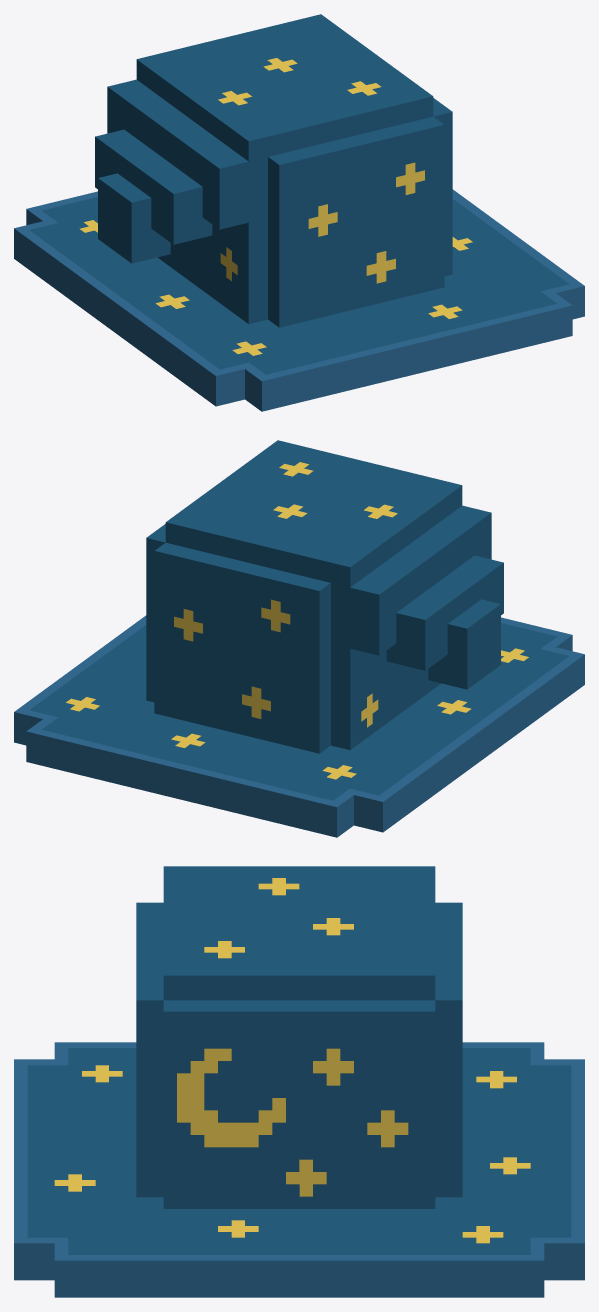
The model's file is av_hat_wizard.glb.
3 renders of one model, top to bottom at view 1: azimuth 30°, elevation 25°; view 2: azimuth 150°, elevation 25°; view 3: azimuth 270°, elevation 25°, orthographic. The views are drawn at different scales.
Parts seen in each view (by area): view 1: model.001; view 2: model.001; view 3: model.001.
Part boxes in pixels (box(x1,y1,x2,y2)): model.001: box(14, 14, 584, 411); model.001: box(14, 440, 584, 837); model.001: box(14, 866, 584, 1297).
Size of the model in its own units: 0.38 by 0.21 by 0.42.
1 material, 1 textured.
